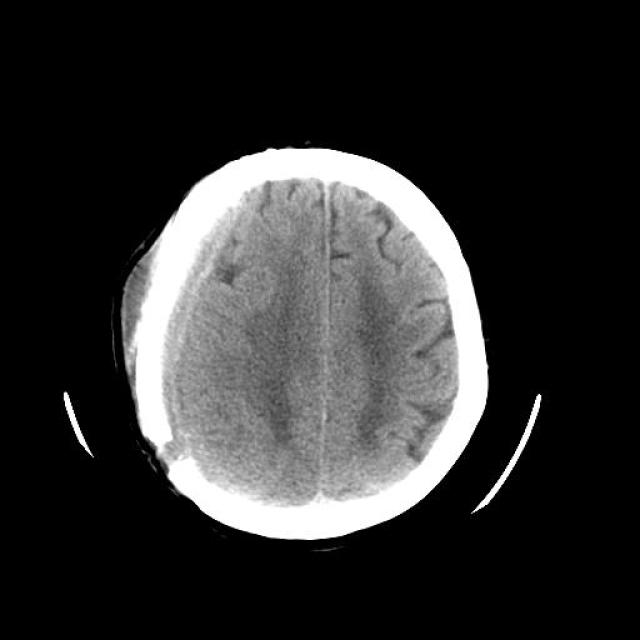Subdural: (129, 182, 275, 466)
